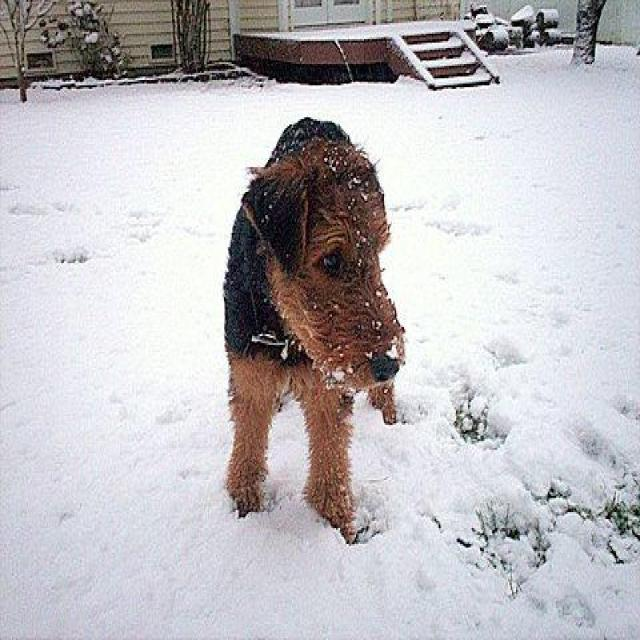airedale: (220, 112, 409, 548)
